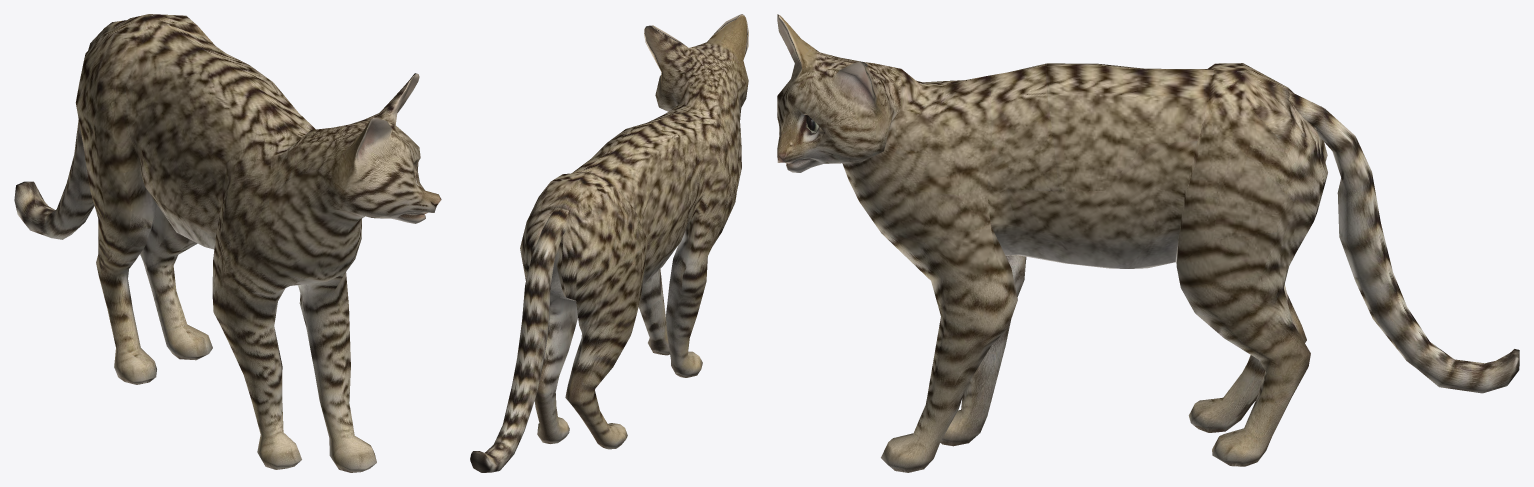
File: cat.glb
3 views of the same model, side by side, from view 1: azimuth 30°, elevation 25°; view 2: azimuth 150°, elevation 25°; view 3: azimuth 270°, elevation 25° (orthographic). The views are drawn at different scales.
Size of the model in its own units: 0.1233 by 0.3 by 0.4676.
1 material, 1 textured.
